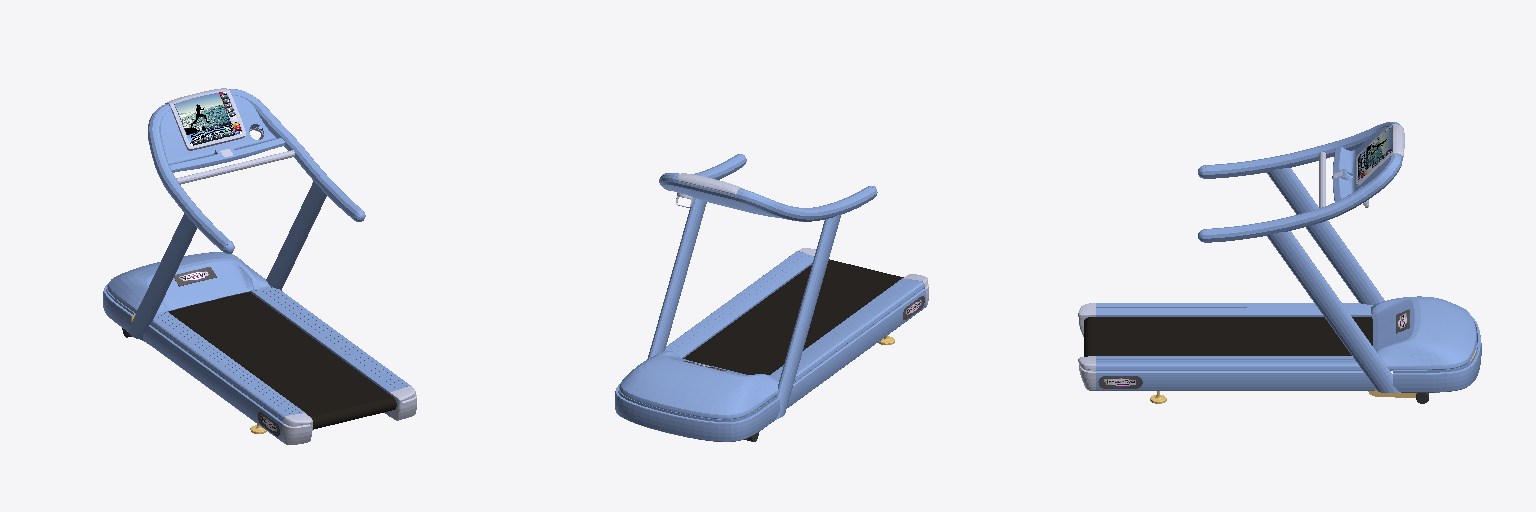
The picture shows the model from 3 angles: view 1: azimuth 30°, elevation 25°; view 2: azimuth 150°, elevation 25°; view 3: azimuth 270°, elevation 25°; orthographic projection.
Parts seen in each view (by area): view 1: gym-run-jog; view 2: gym-run-jog; view 3: gym-run-jog.
Part boxes in pixels (x1,y1,x2,y2): gym-run-jog: (103, 88, 416, 444); gym-run-jog: (615, 154, 928, 441); gym-run-jog: (1078, 122, 1481, 403).
Size of the model in its own units: 866 by 1382 by 2118.
Materials: 7 (2 with a texture image).